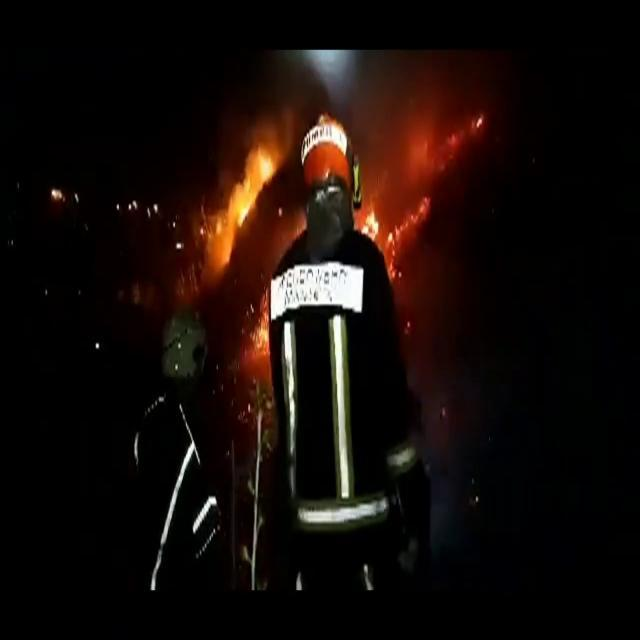Fire: (206, 136, 280, 264), (363, 193, 420, 284)
Smoke: (364, 49, 501, 186)
